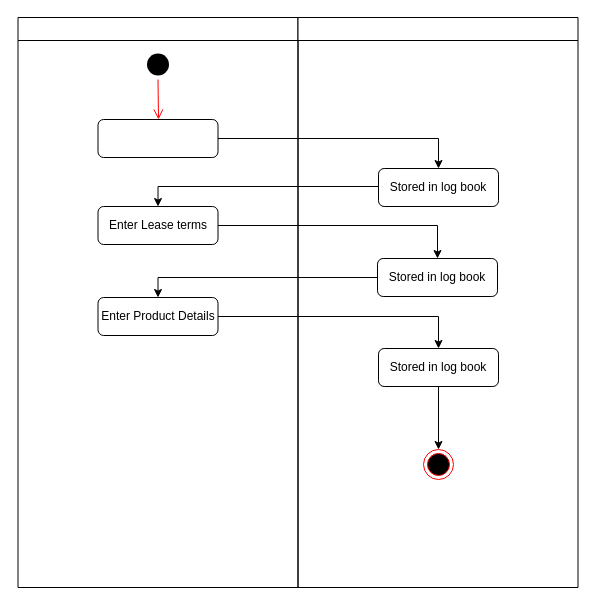
This 595x605 diagram has some shape labels left out. Each missing label, with the box of its shape:
Actors: (17, 16, 298, 588)
Enter Customer Details: (97, 118, 218, 158)
System: (297, 16, 578, 588)
